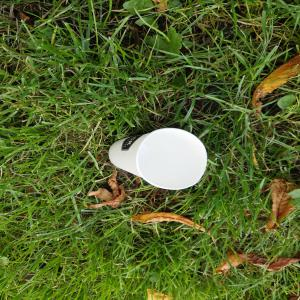Cup: (107, 128, 211, 192)
